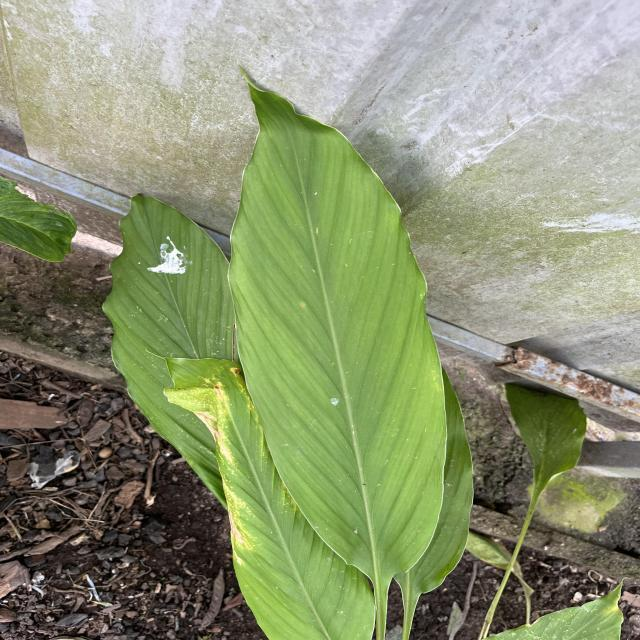Curcuma longa: (225, 59, 450, 583), (100, 190, 232, 512)
